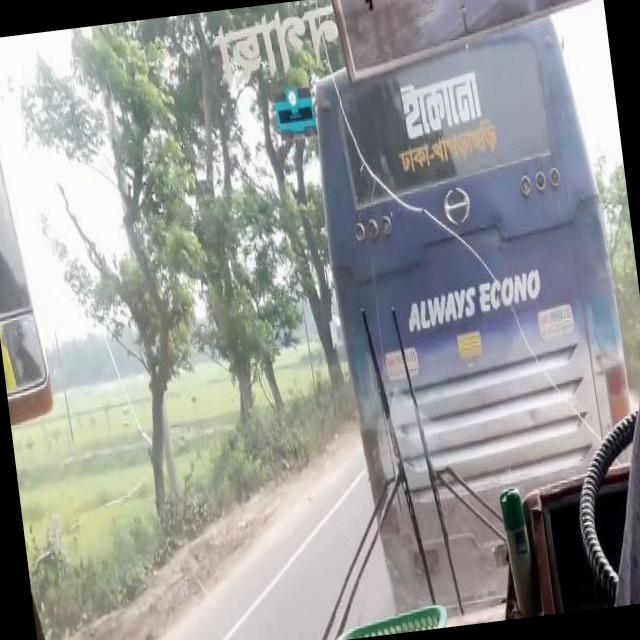bus: (310, 39, 640, 606)
